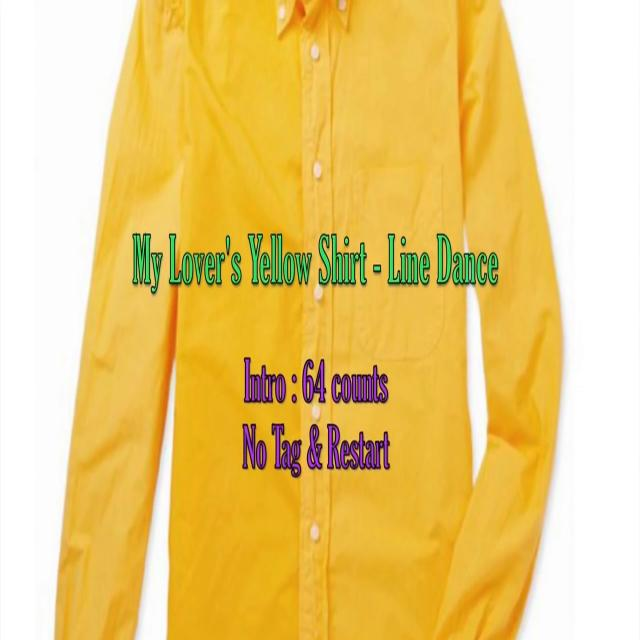Shirt: (53, 0, 565, 640)
